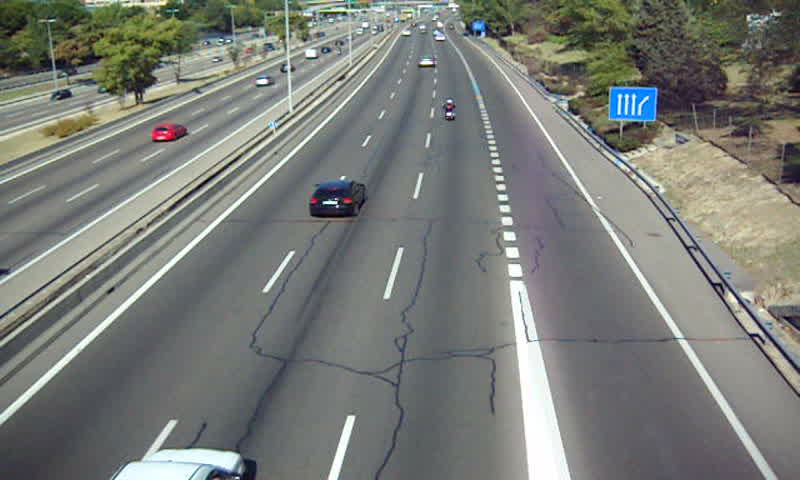car: (309, 180, 366, 218), (417, 56, 435, 70)
motorcycle: (442, 98, 459, 122)
